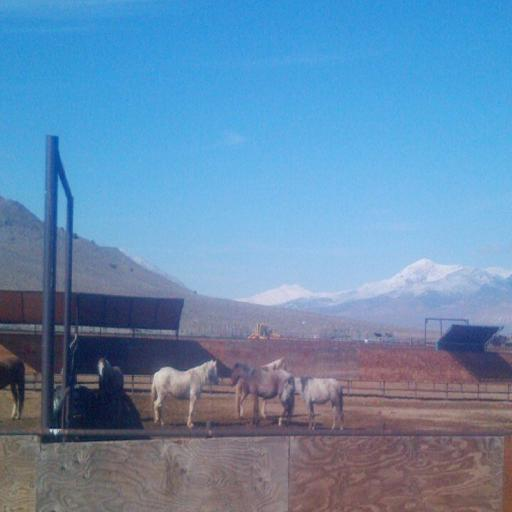horse: (150, 358, 219, 426), (228, 361, 294, 425), (282, 376, 346, 429), (235, 355, 287, 418), (93, 352, 123, 424), (0, 354, 25, 420)
